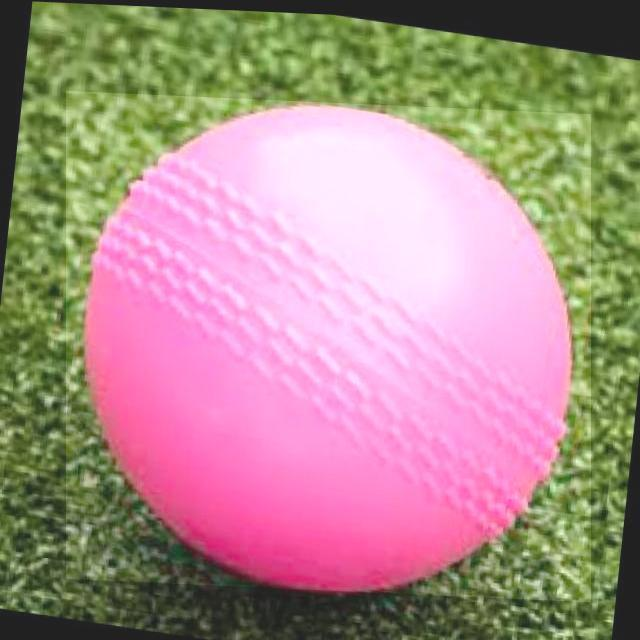-: (66, 90, 591, 596)
